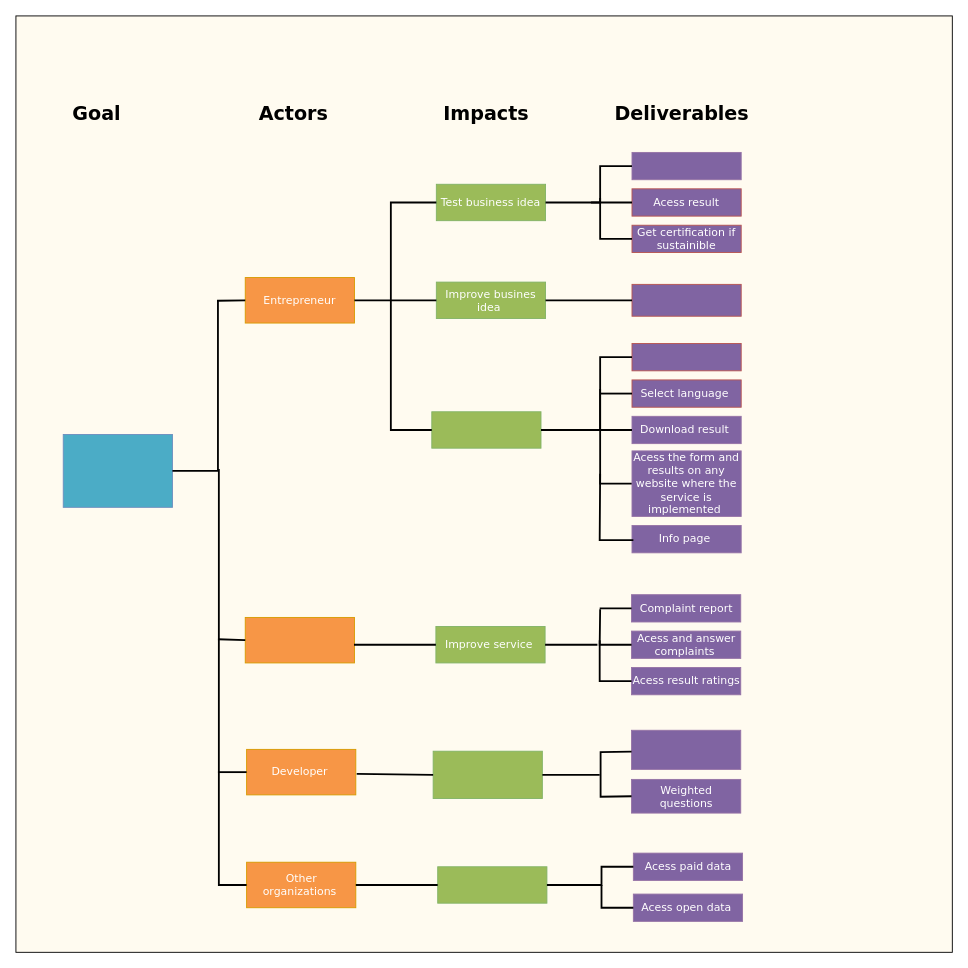
This 968x968 diagram has some shape labels left out. The centre of each missing label's shape, as x and y in pixels:
Accessible: point (486, 429)
Administrator: point (299, 640)
Benefit their business: point (492, 884)
Fill a form: point (686, 166)
Help button on questions: point (686, 357)
Personalized sustainibility info: point (686, 299)
Present relevant and personalized results and information: point (487, 774)
Relevant sustainibility questions: point (686, 749)
Test how sustainible business ideas are: point (117, 470)
